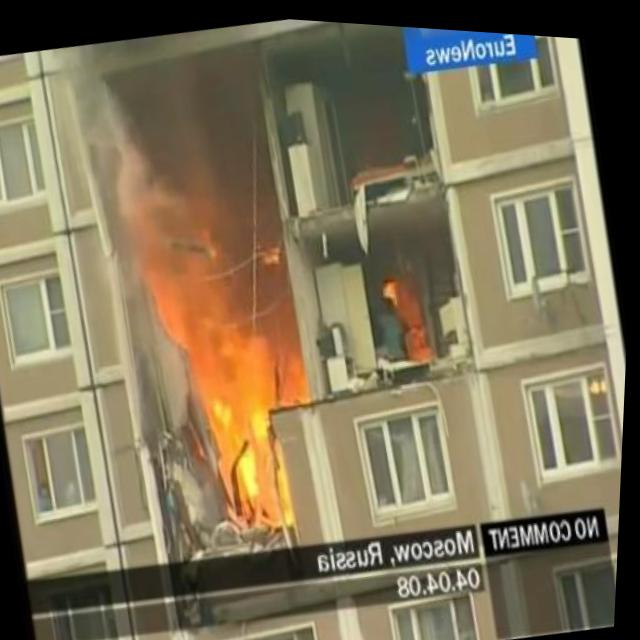fire: (156, 206, 307, 531), (381, 264, 403, 307)
